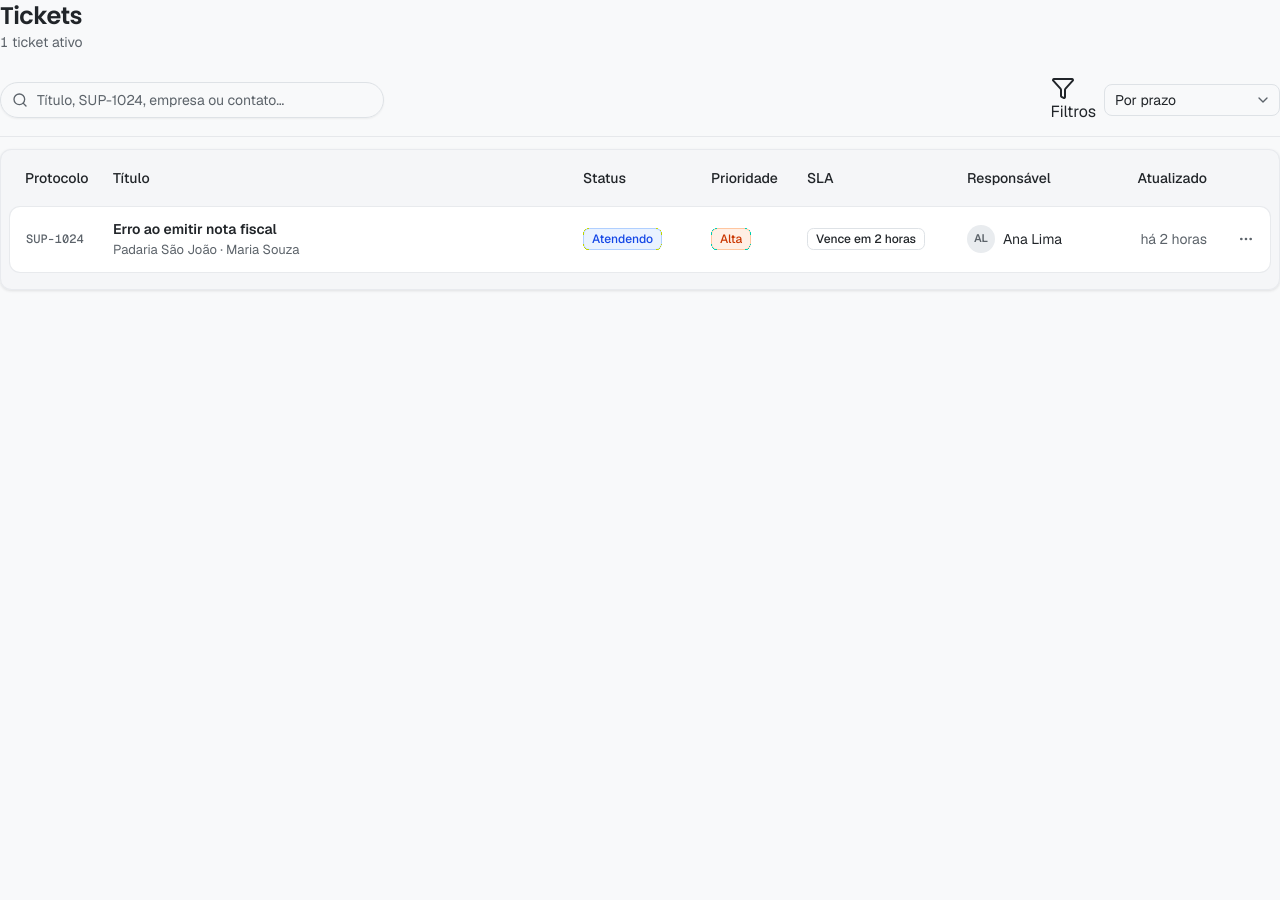
Test: TicketsTable — filtros › Responsável oferece 'Eu', 'Sem responsável' e a equipe, sem o próprio analista
Click the button "Filtros": click(1073, 100) [1050,76,1096,124]
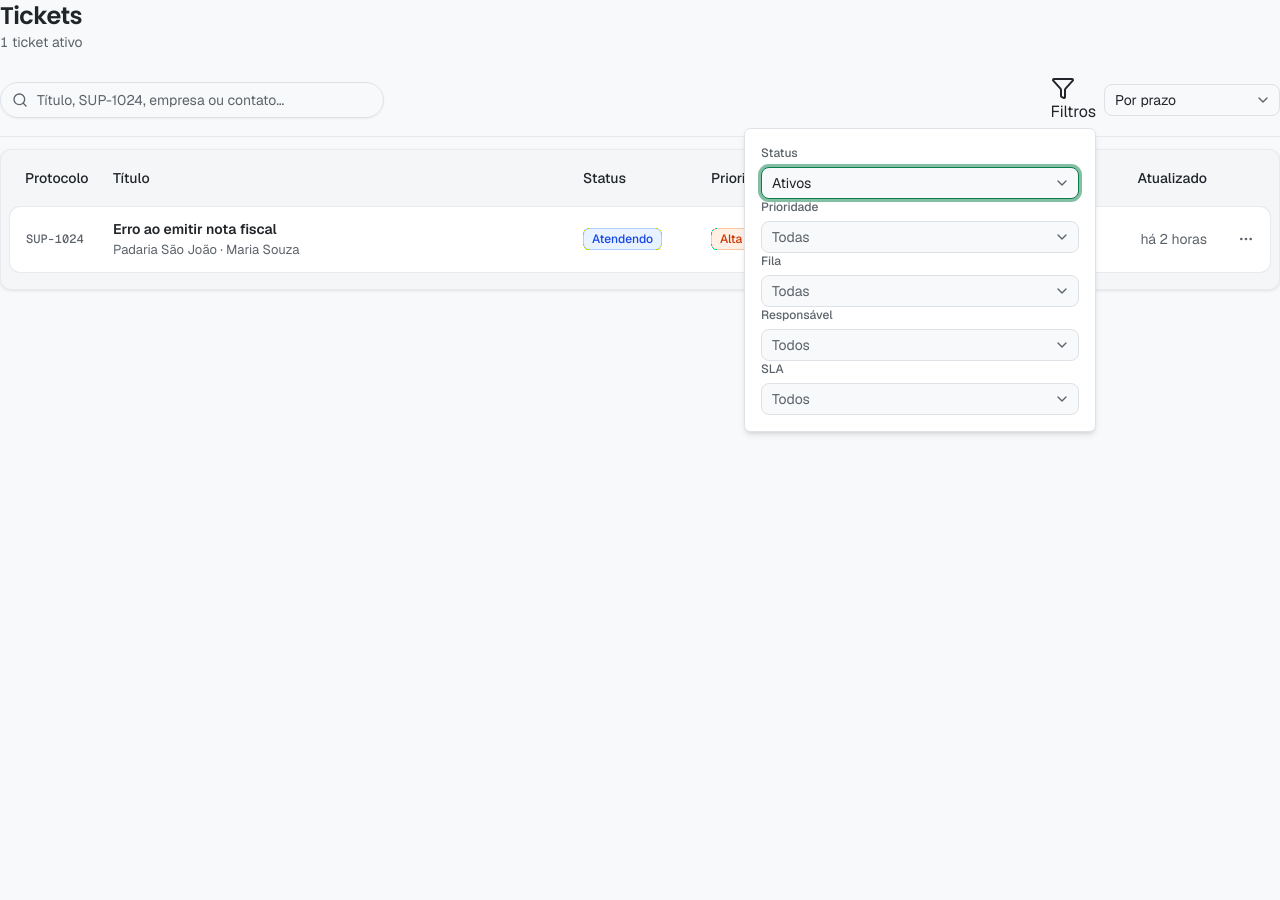
Click the dropdown named "Responsável": click(791, 345) [761,329,1079,361]
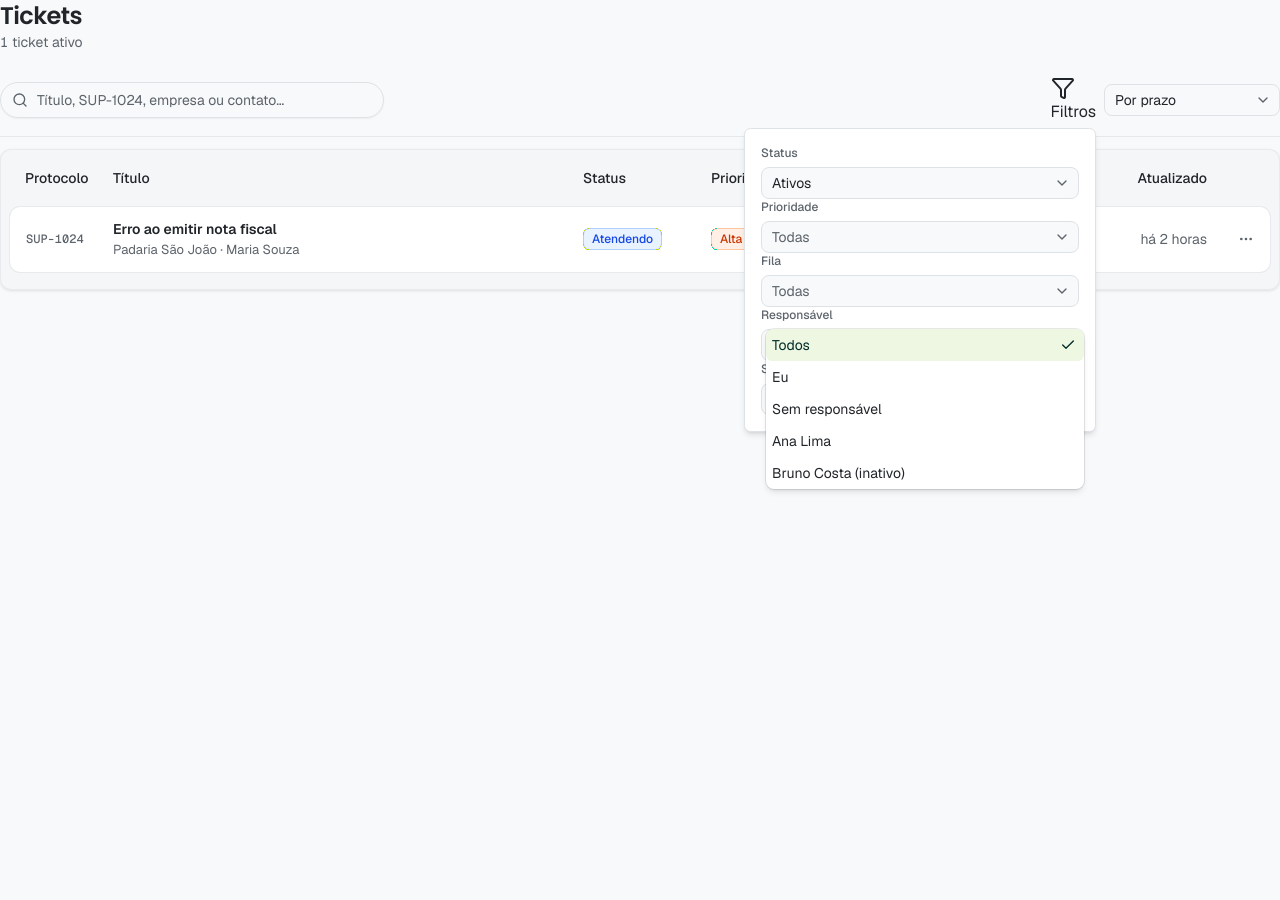
Check: the options read "Todos", "Eu", "Sem responsável", "Ana Lima", "Bruno Costa (inativo)", in this order, box [766,329,1084,361]; [772,368,788,386]; [772,400,882,418]; [772,432,831,450]; [772,464,905,482]
